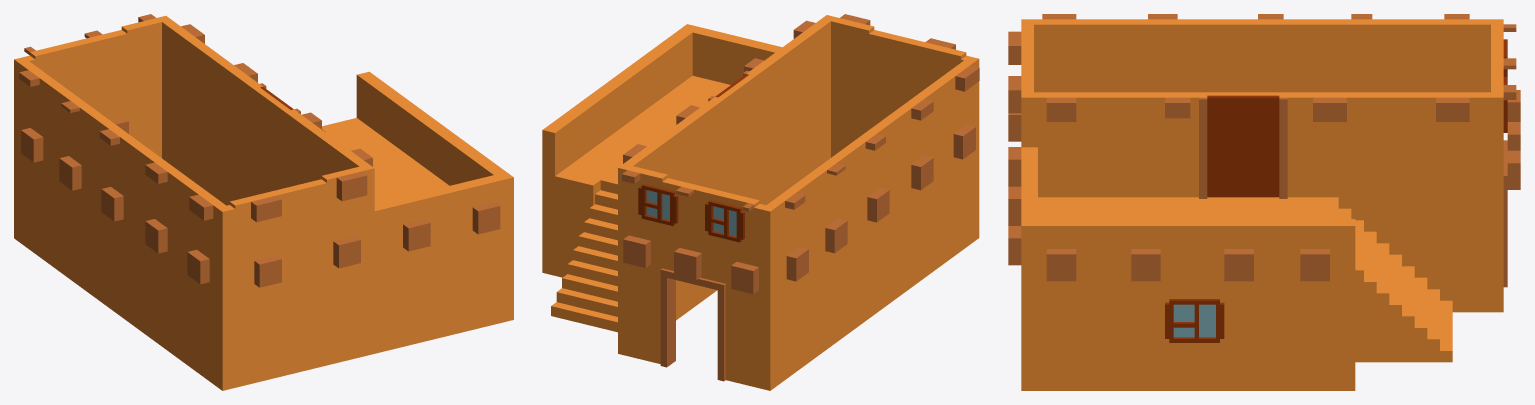
File: Robot_vox-1-8.obj
3 views of the same model, side by side, from view 1: azimuth 30°, elevation 25°; view 2: azimuth 150°, elevation 25°; view 3: azimuth 270°, elevation 25° (orthographic). The views are drawn at different scales.
Size of the model in its own units: 9.8 by 5.6 by 12.1.
1 material, 1 textured.
